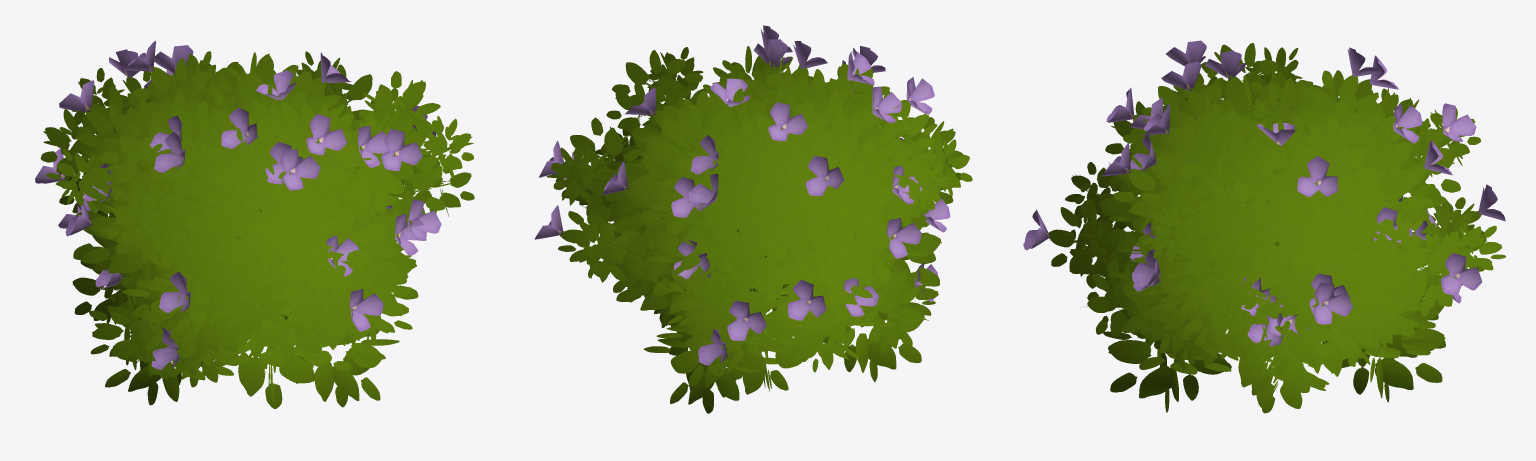
File: n_Bush_Common_Flowers.glb
3 views of the same model, side by side, from view 1: azimuth 30°, elevation 25°; view 2: azimuth 150°, elevation 25°; view 3: azimuth 270°, elevation 25° (orthographic). The views are drawn at different scales.
Visible parts, largest first — view 1: Bush_Common_Flowers; view 2: Bush_Common_Flowers; view 3: Bush_Common_Flowers.
Boxes of the visible parts, left/top/right/bottom form: Bush_Common_Flowers: left=35, top=40, right=474, bottom=408; Bush_Common_Flowers: left=534, top=25, right=972, bottom=413; Bush_Common_Flowers: left=1023, top=40, right=1505, bottom=413.
Size of the model in its own units: 1.91 by 1.58 by 1.97.
2 materials, 2 textured.
